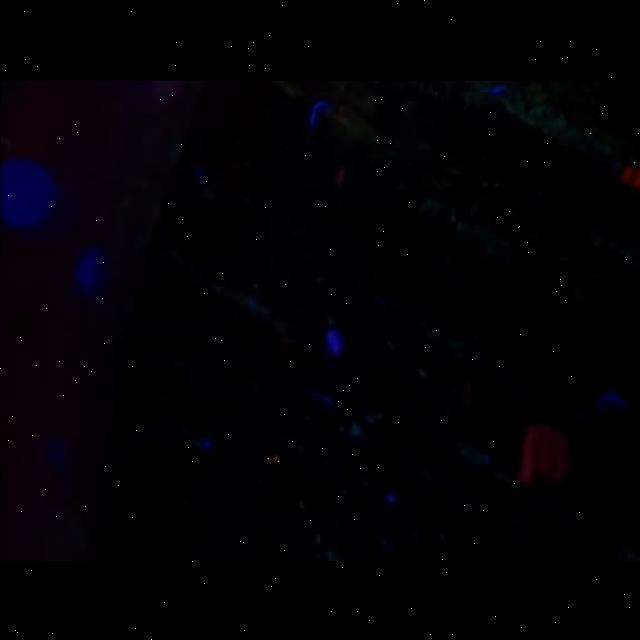Fragment: (518, 423, 568, 483), (620, 164, 640, 187)
